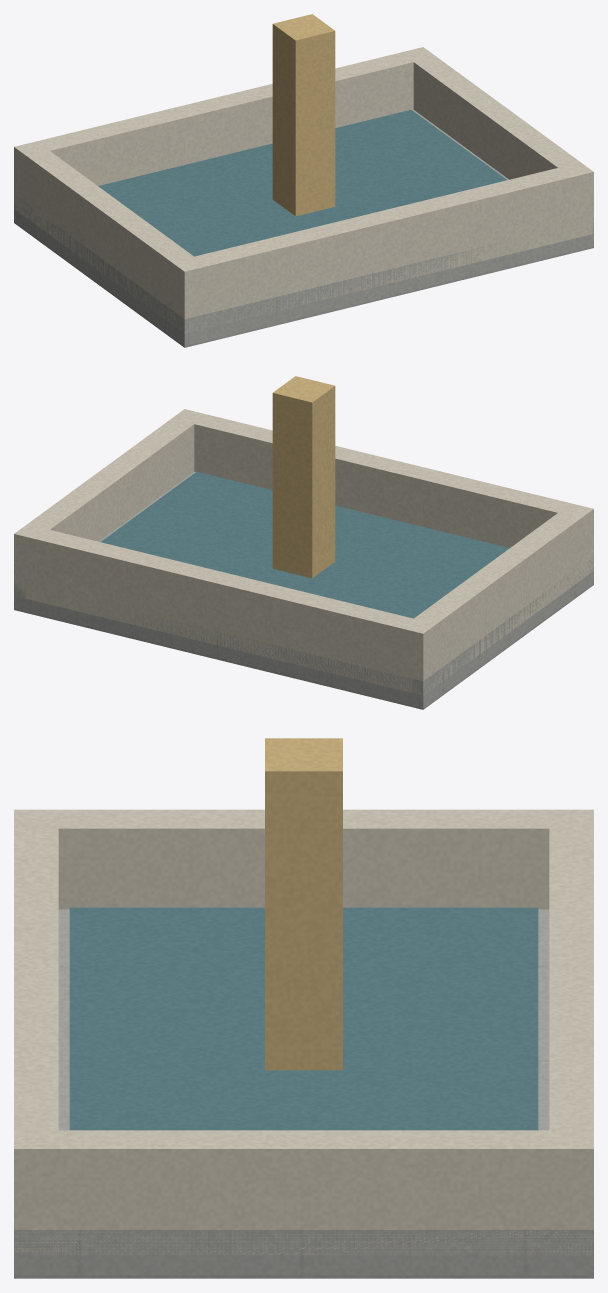
File: q03-fountain.glb
3 views of the same model, one above another, from view 1: azimuth 30°, elevation 25°; view 2: azimuth 150°, elevation 25°; view 3: azimuth 270°, elevation 25° (orthographic). The views are drawn at different scales.
Size of the model in its own units: 3.6 by 1.75 by 2.6.
4 materials, 4 textured.
